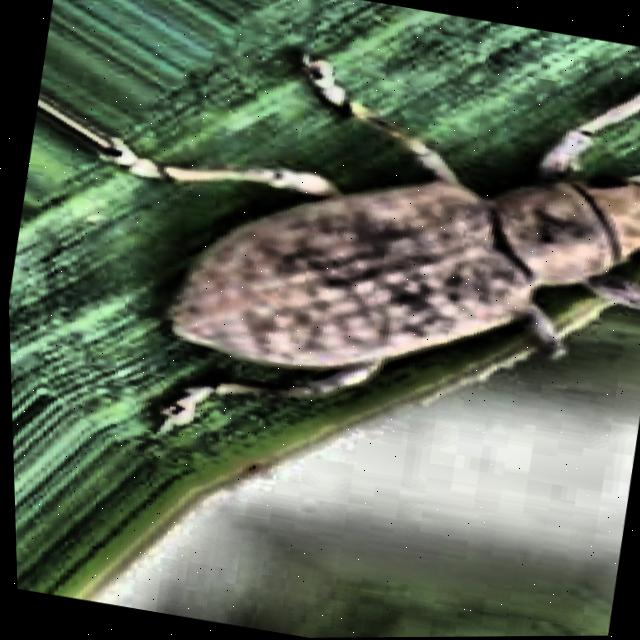Stink bug: (25, 0, 640, 506)
